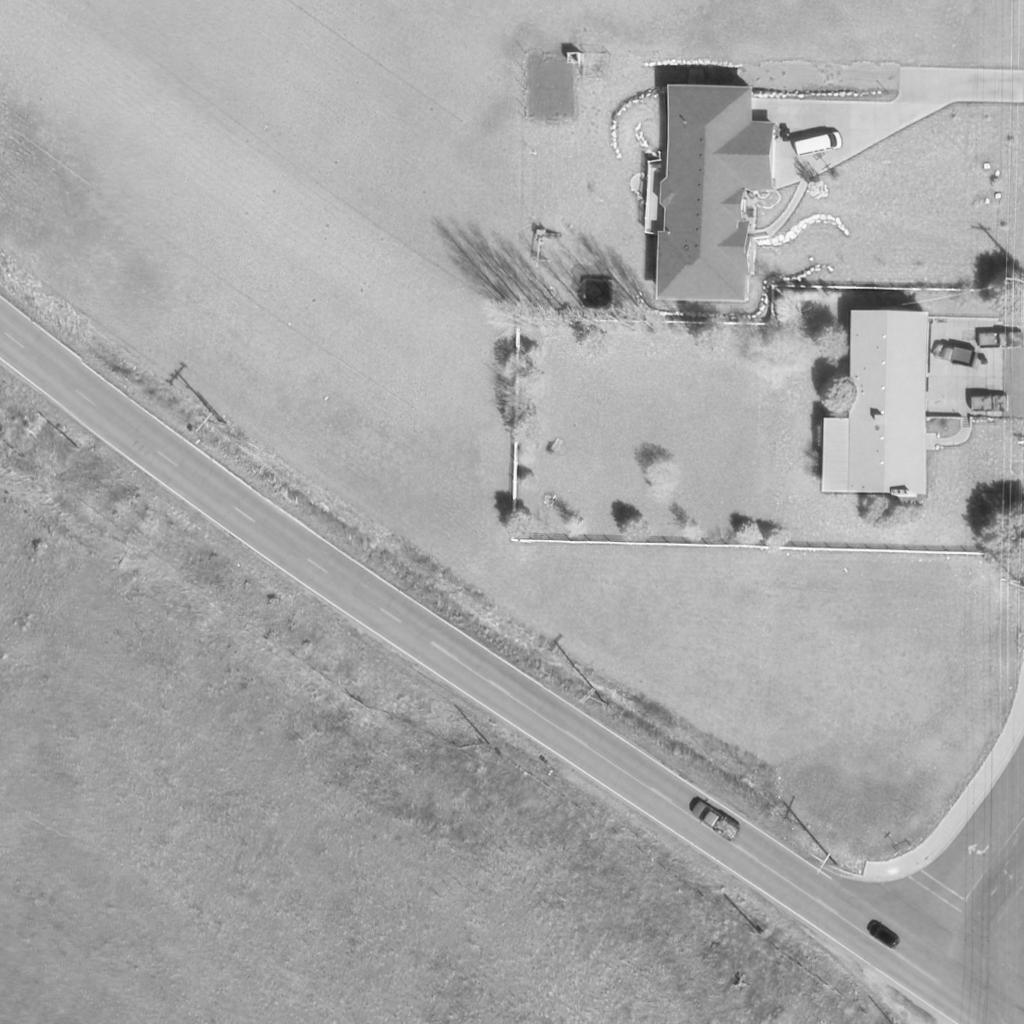vehicle: (689, 800, 743, 842), (791, 132, 845, 158), (930, 343, 980, 365), (865, 919, 901, 947), (968, 394, 1010, 412), (979, 330, 1023, 346)
